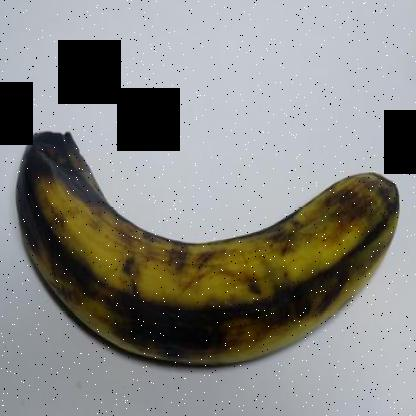overripe: (11, 106, 409, 384)
